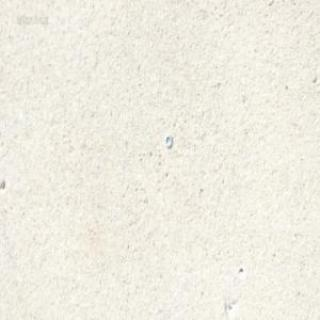Washertrack_idkeyframe: (164, 132, 172, 148)
